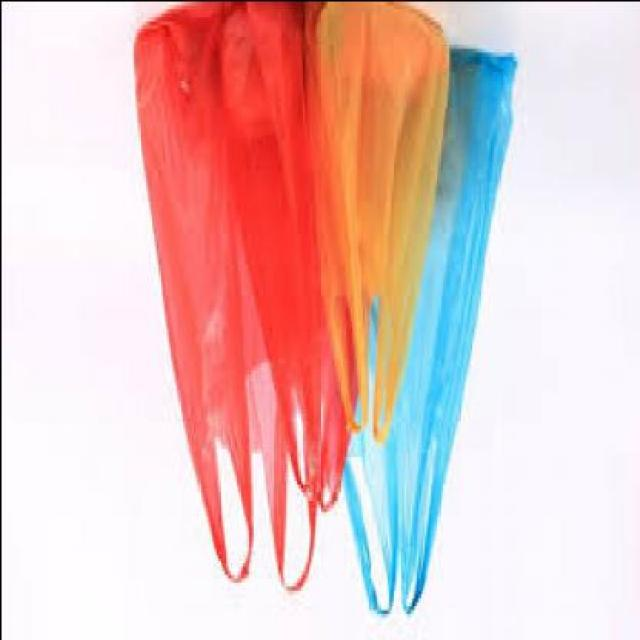PLASTIC: (134, 4, 314, 593), (334, 51, 518, 617), (217, 3, 368, 514), (310, 4, 452, 444)
